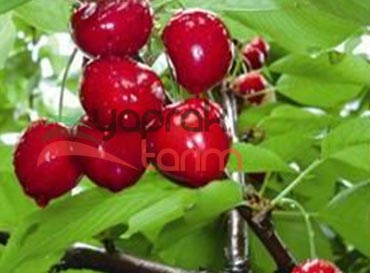Cherry: (146, 96, 232, 187), (161, 9, 233, 93)
